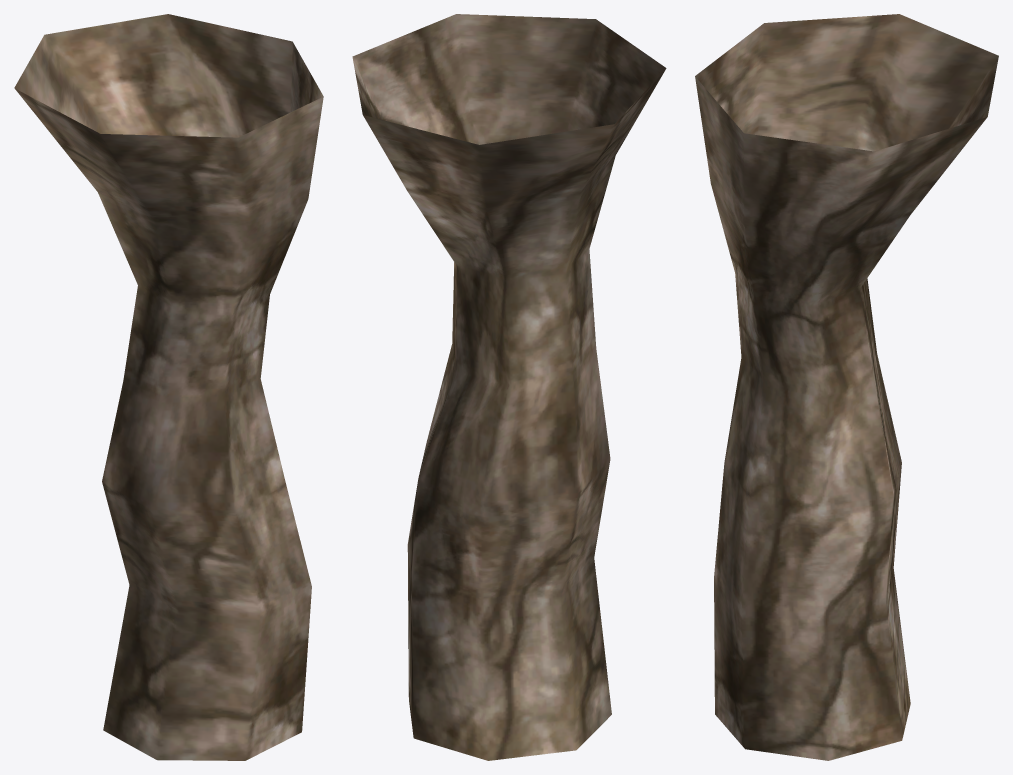
Rendered from EKH_JAIL_PS_JA_CYLINDER08.fbx.
The picture shows the model from 3 angles, left to right: view 1: azimuth 30°, elevation 25°; view 2: azimuth 150°, elevation 25°; view 3: azimuth 270°, elevation 25°; orthographic projection. The views are drawn at different scales.
Parts seen in each view (by area): view 1: EKH_JAIL_PS_JA_CYLINDER08; view 2: EKH_JAIL_PS_JA_CYLINDER08; view 3: EKH_JAIL_PS_JA_CYLINDER08.
Part boxes in pixels (box(x1,y1,x2,y2)): EKH_JAIL_PS_JA_CYLINDER08: box(14, 14, 323, 760); EKH_JAIL_PS_JA_CYLINDER08: box(352, 14, 666, 760); EKH_JAIL_PS_JA_CYLINDER08: box(695, 14, 998, 760).
Bounding box in the file's own units: 19243 × 44198 × 19219.
Materials: 1 (1 with a texture image).
